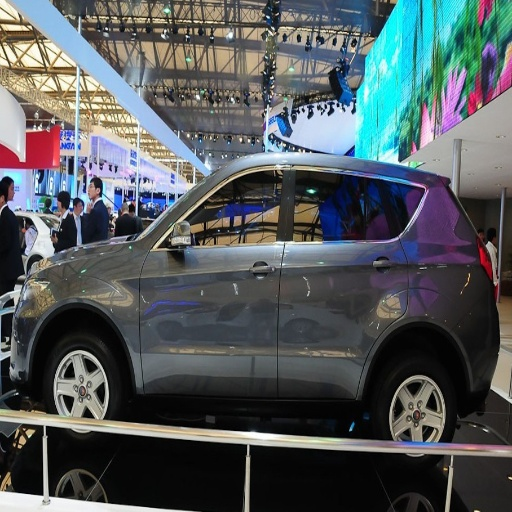back_left_door: (278, 163, 407, 396)
front_left_door: (141, 163, 288, 393)
